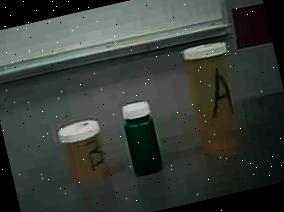Bottle A: (174, 28, 256, 167)
Bottle B: (52, 112, 121, 196)
Bottle C: (115, 95, 174, 182)
